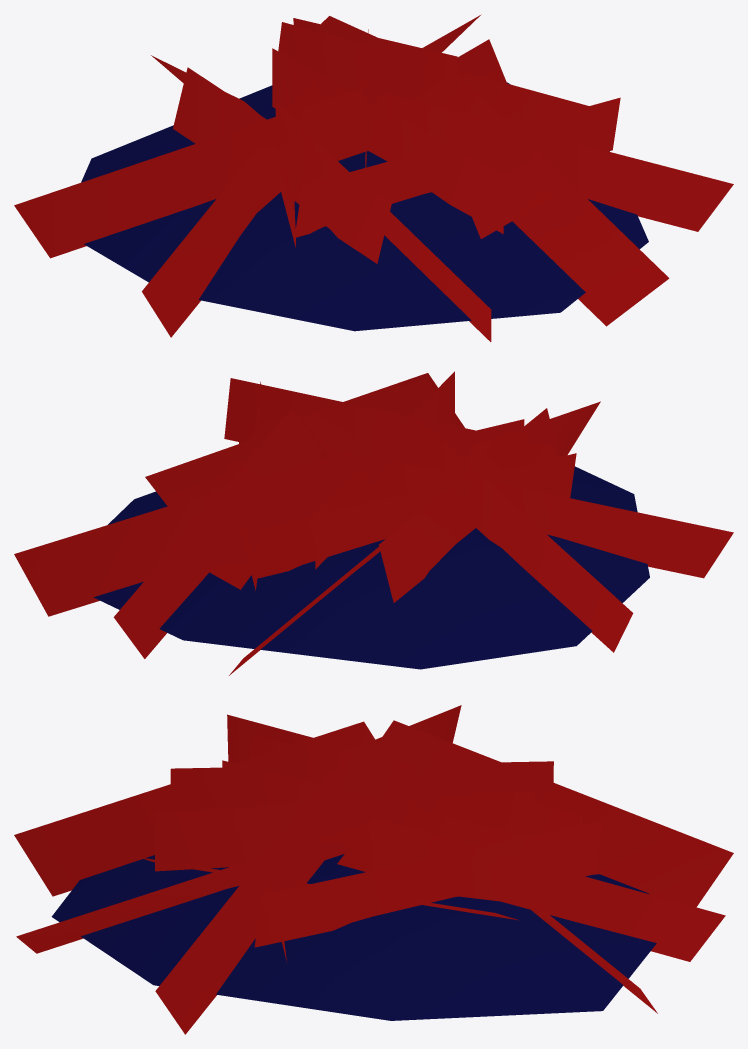
File: Moss_little.fbx
3 renders of one model, top to bottom at view 1: azimuth 30°, elevation 25°; view 2: azimuth 150°, elevation 25°; view 3: azimuth 270°, elevation 25°, orthographic. The views are drawn at different scales.
Visible parts, largest first — view 1: Moss_little; view 2: Moss_little; view 3: Moss_little.
Part boxes in pixels (<box>): Moss_little: <box>14,14,733,341</box>; Moss_little: <box>14,371,733,675</box>; Moss_little: <box>14,705,733,1034</box>.
Bounding box in the file's own units: 1.68 × 0.4317 × 1.83.
